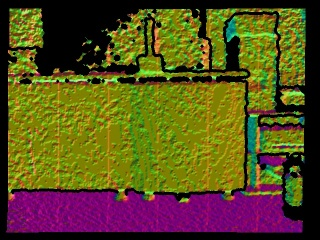station: (138, 16, 164, 73)
